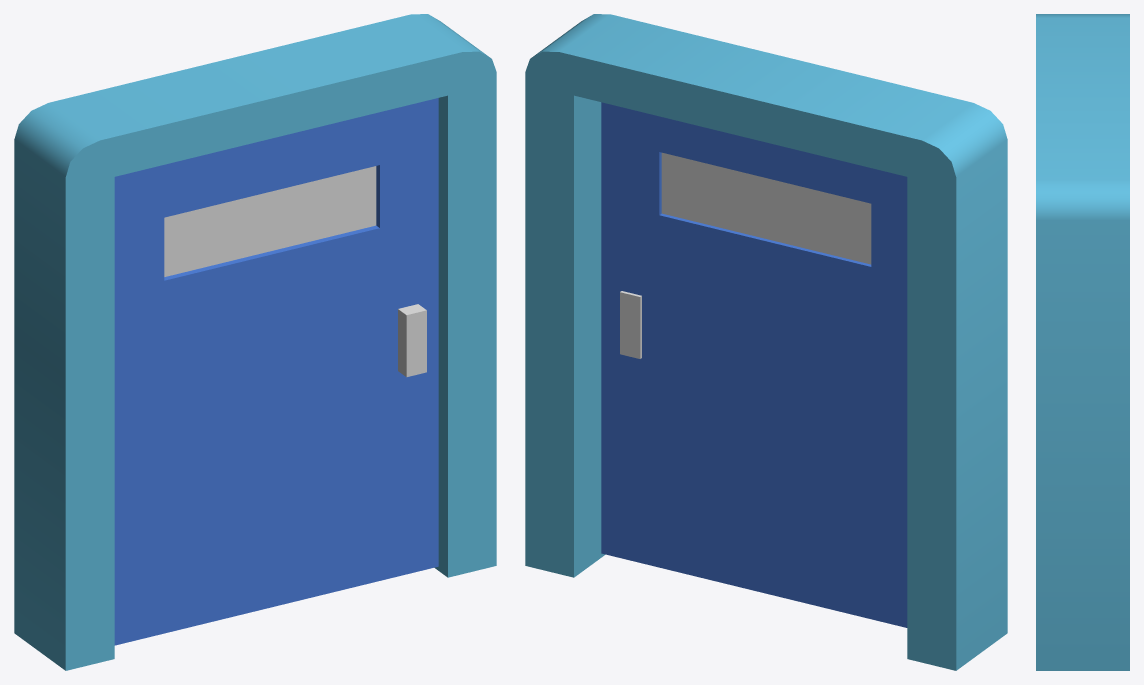
File: door1.fbx
The picture shows the model from 3 angles, left to right: view 1: azimuth 30°, elevation 25°; view 2: azimuth 150°, elevation 25°; view 3: azimuth 270°, elevation 25°; orthographic projection. The views are drawn at different scales.
Visible parts, largest first — view 1: door, Cube.004; view 2: door, Cube.004; view 3: Cube.004.
Boxes of the visible parts, x1,y1,x2,y2 form: door: (114,98,438,645); Cube.004: (14,14,496,670); door: (601,102,907,627); Cube.004: (525,14,1007,670); Cube.004: (1036,14,1129,670).
Size of the model in its own units: 1.69 by 1.96 by 0.3497.
